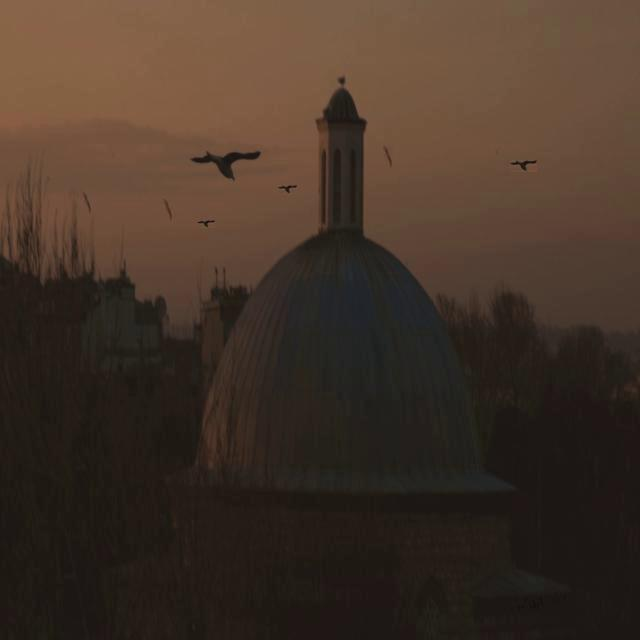bird: (187, 148, 261, 182), (379, 141, 399, 172), (508, 156, 540, 174), (158, 197, 178, 225), (81, 189, 96, 215), (278, 185, 299, 195), (336, 73, 349, 89), (196, 221, 216, 228)
